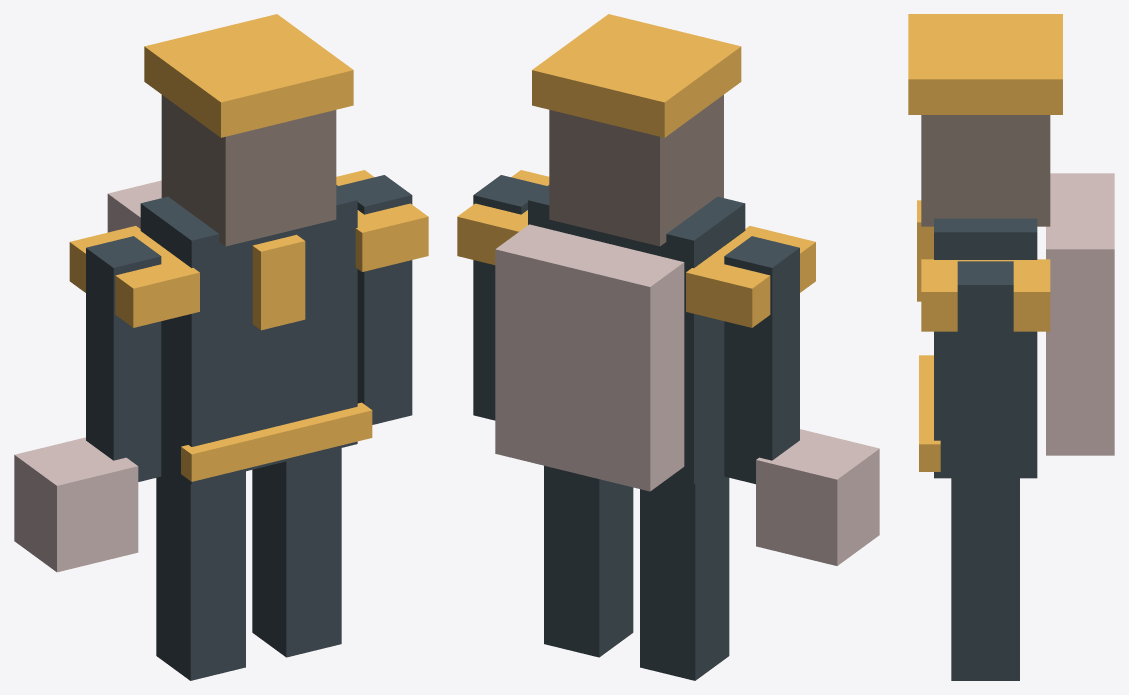
File: 05_vale_stormhush_smith_at_temporal.glb
The picture shows the model from 3 angles, left to right: view 1: azimuth 30°, elevation 25°; view 2: azimuth 150°, elevation 25°; view 3: azimuth 270°, elevation 25°; orthographic projection.
Parts seen in each view (by area): view 1: Vale Stormhush, Smith at Temporal; view 2: Vale Stormhush, Smith at Temporal; view 3: Vale Stormhush, Smith at Temporal.
Boxes of the visible parts, left/top/right/bottom form: Vale Stormhush, Smith at Temporal: left=14, top=14, right=428, bottom=680; Vale Stormhush, Smith at Temporal: left=457, top=14, right=879, bottom=680; Vale Stormhush, Smith at Temporal: left=908, top=14, right=1114, bottom=680.
Bounding box in the file's own units: 1.08 × 1.66 × 0.5188.
